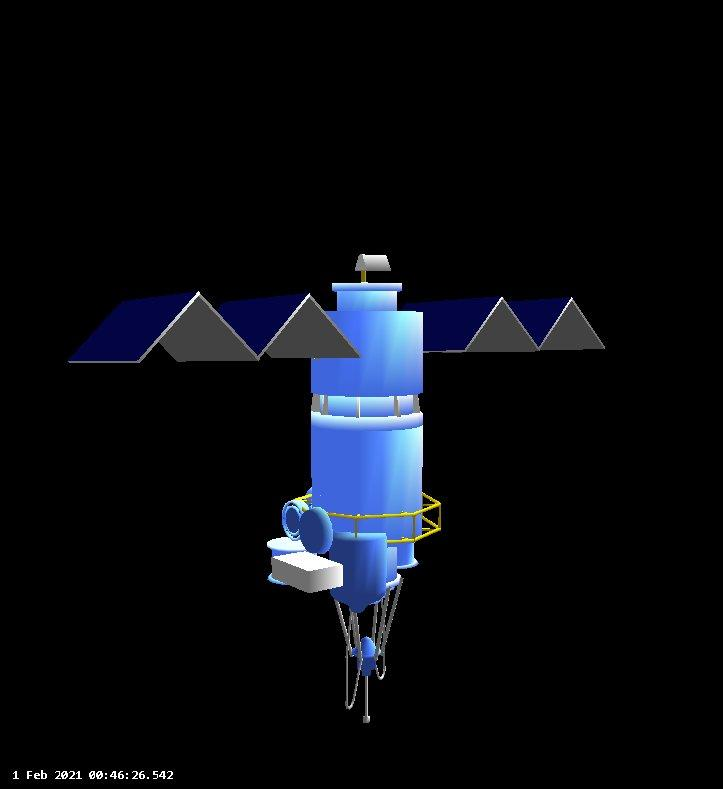antenna: (325, 567, 408, 729)
body: (302, 275, 433, 574)
solar: (59, 283, 361, 368), (403, 283, 613, 358)
